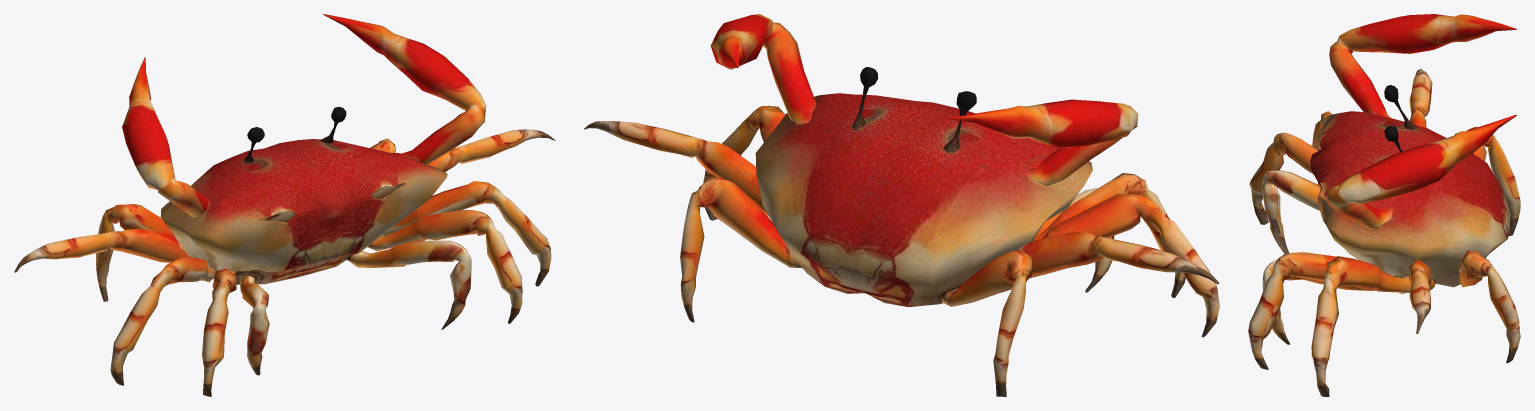
Rendered from reef-crab.glb.
The picture shows the model from 3 angles, left to right: view 1: azimuth 30°, elevation 25°; view 2: azimuth 150°, elevation 25°; view 3: azimuth 270°, elevation 25°; orthographic projection. The views are drawn at different scales.
Size of the model in its own units: 0.9575 by 0.3922 by 0.4233.
Materials: 1 (1 with a texture image).
